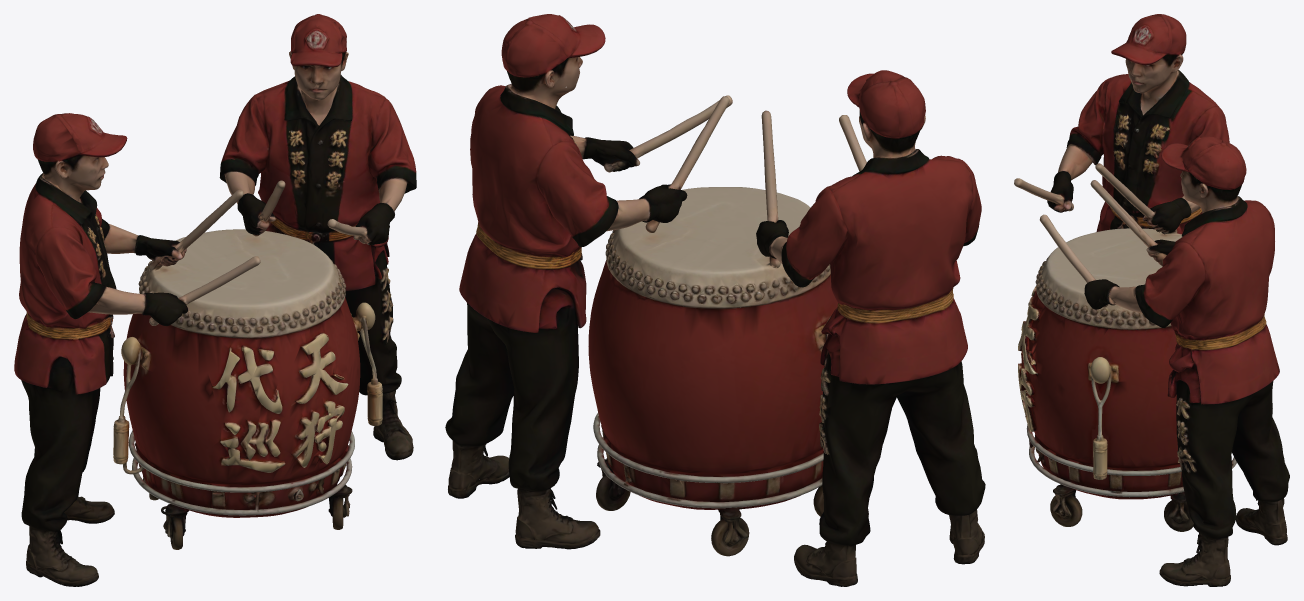
Rendered from P10_Red_Drum-v1.glb.
3 views of the same model, side by side, from view 1: azimuth 30°, elevation 25°; view 2: azimuth 150°, elevation 25°; view 3: azimuth 270°, elevation 25° (orthographic). The views are drawn at different scales.
Parts seen in each view (by area): view 1: tripo_node_3e1180c7-395a-4991-8ed0-8d5ed50f6e3c; view 2: tripo_node_3e1180c7-395a-4991-8ed0-8d5ed50f6e3c; view 3: tripo_node_3e1180c7-395a-4991-8ed0-8d5ed50f6e3c.
Part boxes in pixels (<box>): tripo_node_3e1180c7-395a-4991-8ed0-8d5ed50f6e3c: <box>14,14,416,586</box>; tripo_node_3e1180c7-395a-4991-8ed0-8d5ed50f6e3c: <box>445,14,985,586</box>; tripo_node_3e1180c7-395a-4991-8ed0-8d5ed50f6e3c: <box>1014,14,1289,586</box>.
Bounding box in the file's own units: 0.9804 × 0.975 × 0.5883.
Materials: 1 (1 with a texture image).
